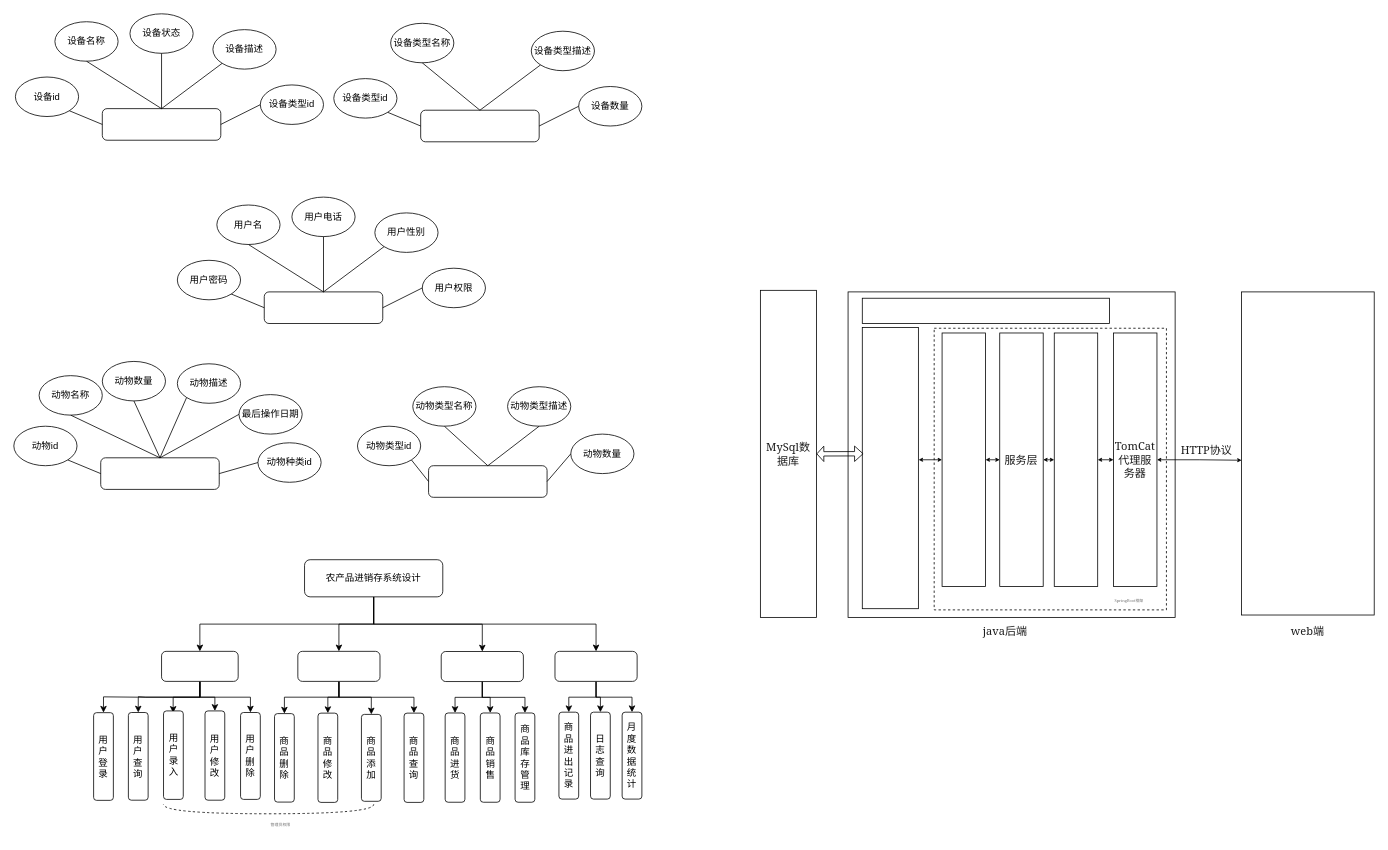
Image size: 1388x850. Some labels were removed from this diagram. Each missing label, with the centre of its shape:
AOP切面日志打印: the point at 985,310
Dao层: the point at 963,459
MyBaties框架: the point at 889,468
Vue3.0+ElementUI: the point at 1307,453
动物类型表: the point at 487,481
动物表: the point at 159,473
商品管理模块: the point at 338,666
控制层: the point at 1075,459
日志模块: the point at 595,666
用户管理模块: the point at 199,666
用户表: the point at 323,307
设备类型表: the point at 479,125
设备表: the point at 161,124
进销存模块: the point at 481,666
